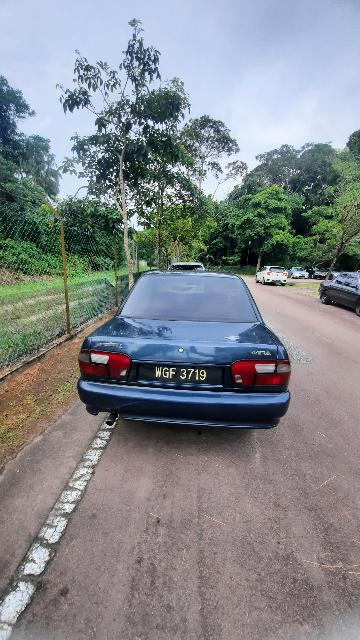License_Plate: (135, 358, 227, 388)
car: (76, 267, 297, 440)
